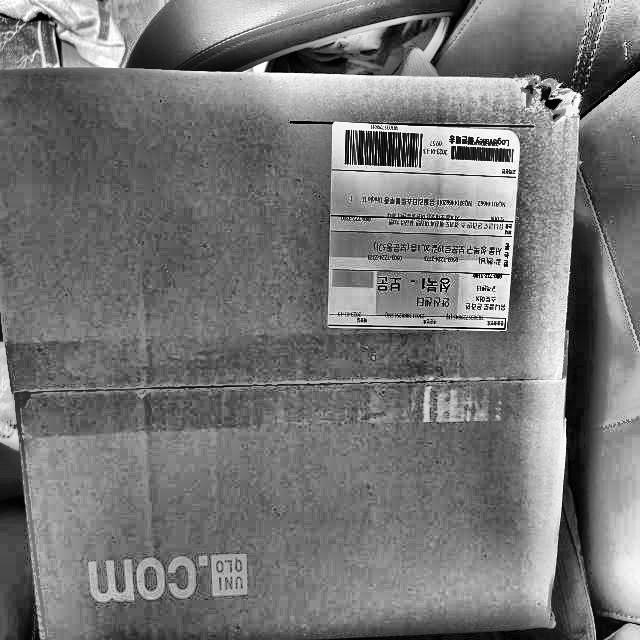box: (0, 58, 599, 640)
hole: (515, 81, 574, 119)
